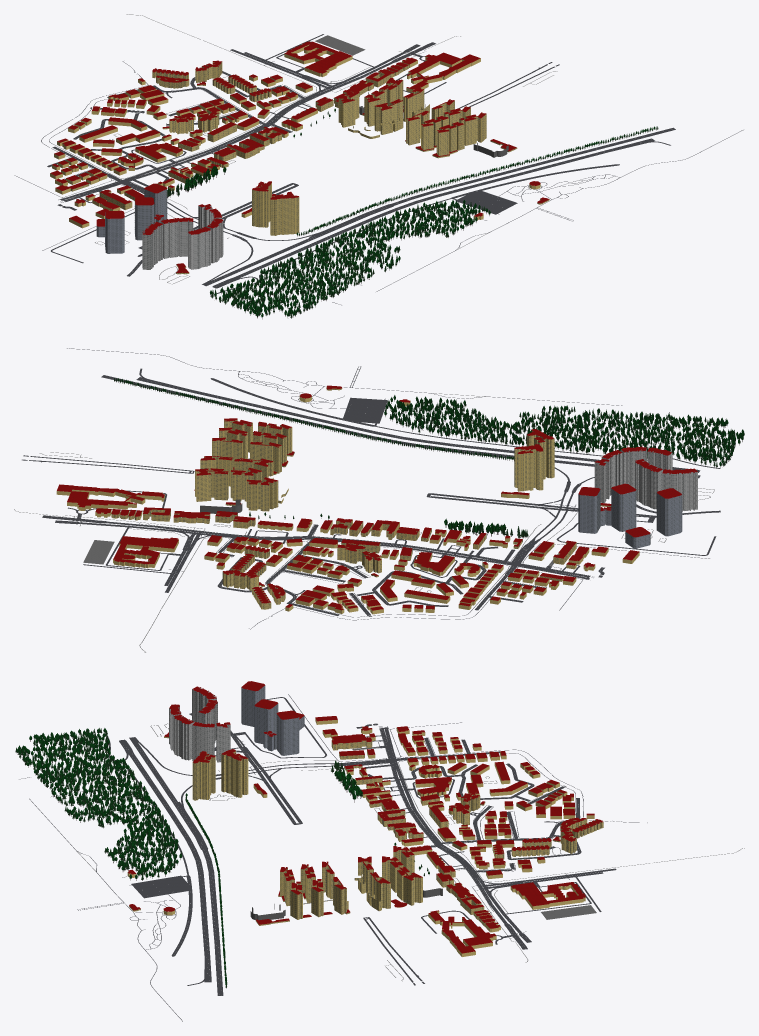
The model's file is osm3d.glb.
3 views of the same model, one above another, from view 1: azimuth 30°, elevation 25°; view 2: azimuth 150°, elevation 25°; view 3: azimuth 270°, elevation 25° (orthographic). The views are drawn at different scales.
Parts seen in each view (by area): view 1: Plaster002, RoofingTiles010, ASPHALT, TextureAtlas 3a6102f6, Windows, Concrete034.001, Concrete034.002, Windows.001, Concrete034, Windows.002; view 2: Plaster002, RoofingTiles010, ASPHALT, TextureAtlas 3a6102f6, Windows, Concrete034.001, Concrete034.002, Windows.001, Windows.002, Concrete034; view 3: Plaster002, RoofingTiles010, ASPHALT, TextureAtlas 3a6102f6, Windows, Concrete034.001, Concrete034.002, Concrete034, Windows.001, Windows.002.
Part boxes in pixels (box(x1,y1,x2,y2)): Plaster002: box(50, 42, 549, 274); RoofingTiles010: box(50, 41, 549, 272); ASPHALT: box(14, 34, 743, 305); TextureAtlas 3a6102f6: box(167, 108, 658, 319); Windows: box(71, 62, 548, 273); Concrete034.001: box(142, 205, 223, 269); Concrete034.002: box(96, 189, 167, 253); Windows.001: box(142, 206, 223, 269); Concrete034: box(95, 14, 557, 284); Windows.002: box(97, 189, 166, 253); Plaster002: box(56, 387, 639, 614); RoofingTiles010: box(57, 385, 697, 610); ASPHALT: box(22, 348, 720, 629); TextureAtlas 3a6102f6: box(114, 378, 744, 538); Windows: box(112, 388, 611, 609); Concrete034.001: box(594, 449, 697, 511); Concrete034.002: box(578, 489, 682, 548); Windows.001: box(595, 448, 697, 510); Windows.002: box(578, 490, 681, 548); Concrete034: box(14, 393, 714, 652); Plaster002: box(127, 718, 603, 956); RoofingTiles010: box(128, 681, 603, 953); ASPHALT: box(19, 694, 647, 1021); TextureAtlas 3a6102f6: box(15, 728, 429, 988); Windows: box(130, 736, 603, 925); Concrete034.001: box(169, 687, 230, 762); Concrete034.002: box(241, 686, 304, 755); Concrete034: box(77, 723, 744, 981); Windows.001: box(169, 689, 230, 761); Windows.002: box(242, 687, 304, 755).
Size of the model in its own units: 1463 by 77.56 by 1378.
Materials: 21 (21 with a texture image).
